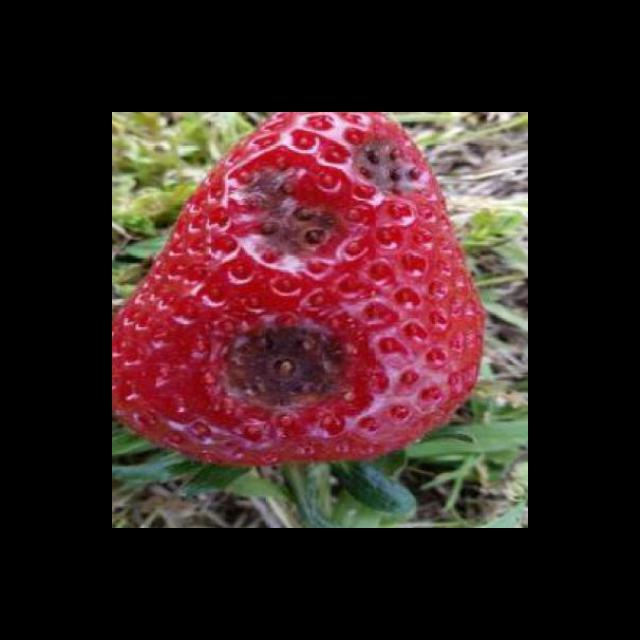Anthracnose Fruit Rot: (213, 157, 357, 283), (199, 311, 354, 416), (339, 132, 435, 202)
